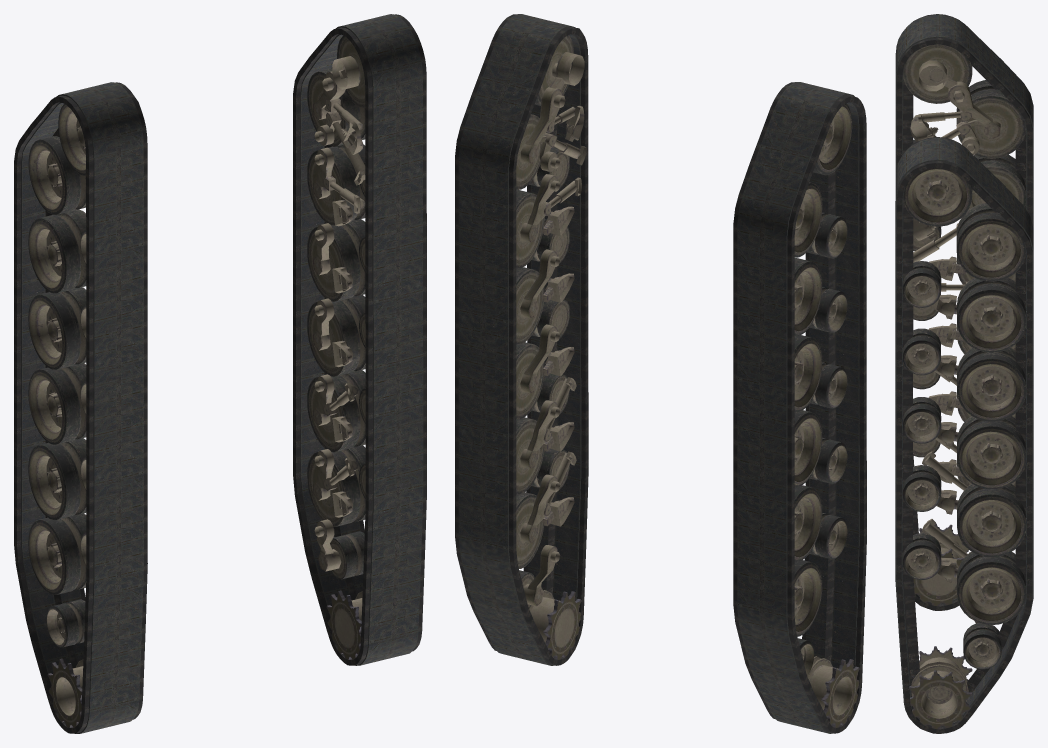
The model's file is Chassis.glb.
The picture shows the model from 3 angles, left to right: view 1: azimuth 30°, elevation 25°; view 2: azimuth 150°, elevation 25°; view 3: azimuth 270°, elevation 25°; orthographic projection. The views are drawn at different scales.
Parts seen in each view (by area): view 1: set_1_group_0, set_0_group_0, set_2_group_0, set_3_group_0; view 2: set_1_group_0, set_0_group_0, set_2_group_0, set_3_group_0; view 3: set_2_group_0, set_0_group_0, set_3_group_0, set_1_group_0.
Part boxes in pixels (x1,y1,x2,y2): set_1_group_0: [14, 82, 147, 733]; set_0_group_0: [293, 14, 426, 665]; set_2_group_0: [307, 35, 365, 659]; set_3_group_0: [28, 104, 86, 727]; set_1_group_0: [733, 82, 866, 733]; set_0_group_0: [455, 14, 588, 665]; set_2_group_0: [516, 35, 586, 659]; set_3_group_0: [794, 103, 859, 727]; set_2_group_0: [902, 167, 1025, 728]; set_0_group_0: [895, 137, 1033, 733]; set_3_group_0: [903, 44, 1025, 606]; set_1_group_0: [895, 14, 1033, 610].
Bounding box in the file's own units: 3.33 × 5.99 × 1.31.
Materials: 4 (4 with a texture image).
